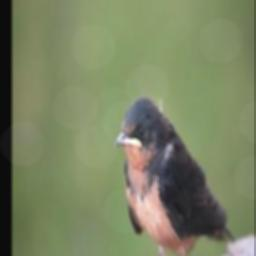Swallow: (113, 93, 234, 256)
